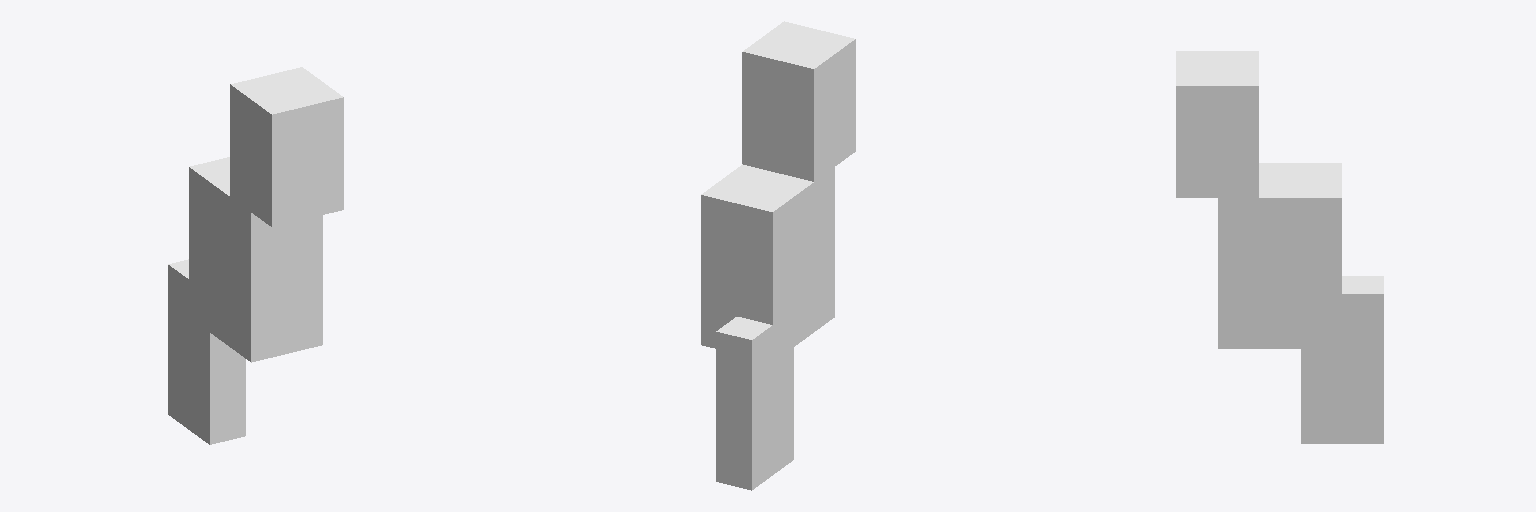
Rendered from Battrel.obj.
The picture shows the model from 3 angles: view 1: azimuth 30°, elevation 25°; view 2: azimuth 150°, elevation 25°; view 3: azimuth 270°, elevation 25°; orthographic projection.
Parts seen in each view (by area): view 1: object 1; view 2: object 1; view 3: object 1.
Part boxes in pixels (x1,y1,x2,y2): object 1: (168,67,343,444); object 1: (701,21,855,490); object 1: (1176,51,1383,443).
Bounding box in the file's own units: 0.2 × 1 × 0.5.